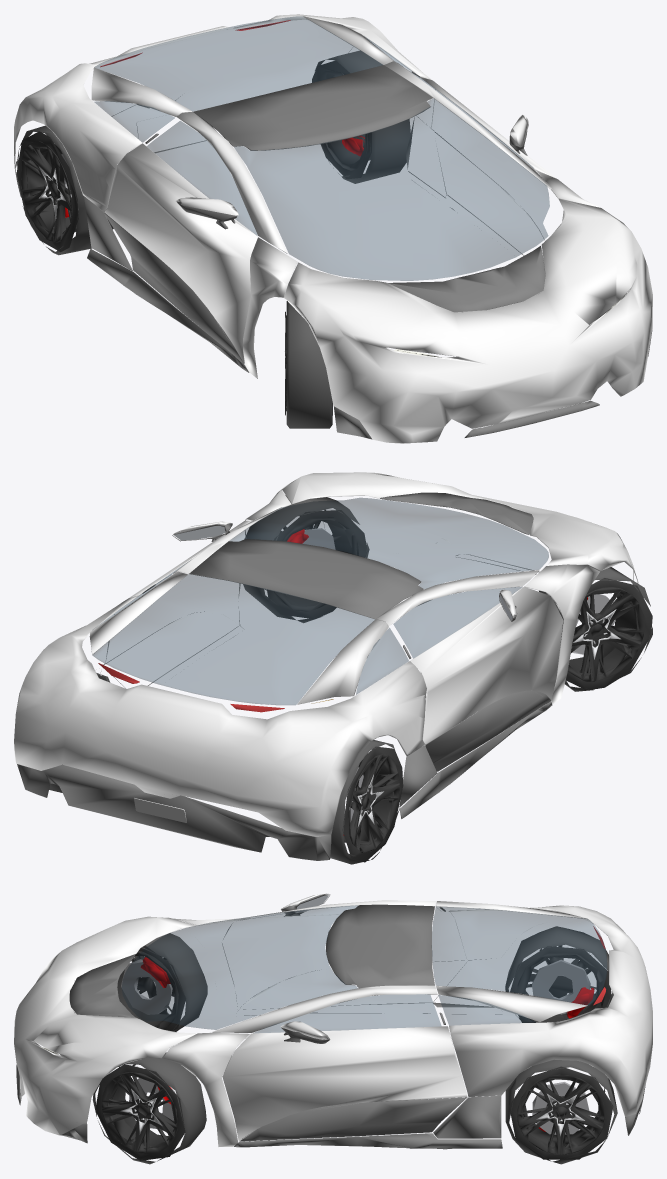
Rendered from esportivo_lo.glb.
3 views of the same model, one above another, from view 1: azimuth 30°, elevation 25°; view 2: azimuth 150°, elevation 25°; view 3: azimuth 270°, elevation 25° (orthographic). The views are drawn at different scales.
Parts seen in each view (by area): view 1: st_p1, st_glass, st_dark, wheel_rr, wheel_rl, wheel_fr; view 2: st_p1, st_glass, st_dark, wheel_fr, wheel_rr, wheel_fl; view 3: st_p1, st_glass, st_dark, wheel_fl, wheel_rl, wheel_rr, wheel_fr.
Part boxes in pixels (x1,y1,x2,y2): st_p1: [14, 14, 652, 443]; st_glass: [94, 16, 549, 280]; st_dark: [15, 65, 652, 439]; wheel_rr: [16, 125, 113, 255]; wheel_rl: [312, 50, 411, 183]; wheel_fr: [285, 301, 332, 428]; st_p1: [14, 472, 638, 836]; st_glass: [92, 498, 548, 704]; st_dark: [17, 492, 552, 860]; wheel_fr: [539, 565, 652, 691]; wheel_rr: [330, 740, 403, 864]; wheel_fl: [243, 495, 369, 622]; st_p1: [14, 893, 652, 1146]; st_glass: [122, 905, 606, 1032]; st_dark: [16, 894, 645, 1149]; wheel_fl: [92, 1052, 206, 1164]; wheel_rl: [505, 1059, 617, 1164]; wheel_rr: [505, 926, 613, 1022]; wheel_fr: [117, 933, 207, 1031].
Size of the model in its own units: 2.54 by 1.15 by 4.35.
